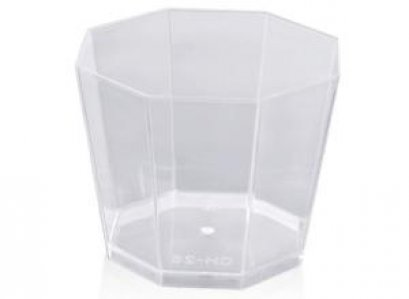plastic_bottle: (68, 2, 344, 289)
